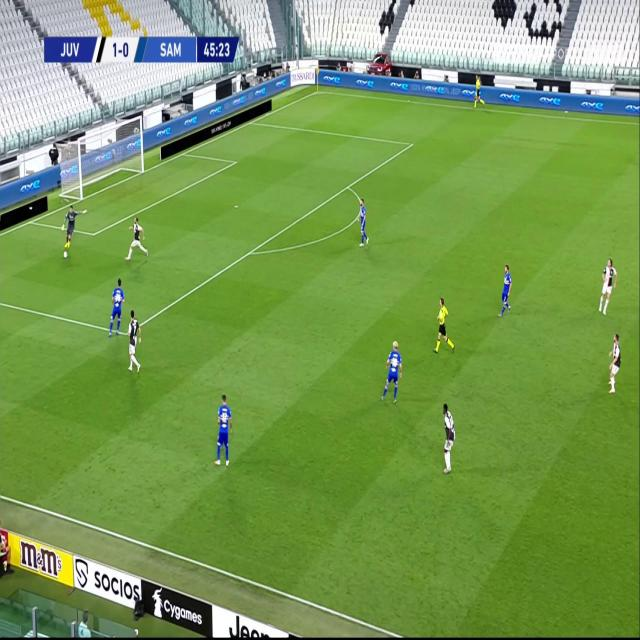ball: (63, 248, 69, 258)
player: (213, 391, 234, 468), (380, 338, 403, 404), (440, 400, 457, 474), (598, 254, 618, 316), (434, 295, 454, 356), (125, 308, 142, 374), (108, 277, 126, 338), (606, 330, 623, 394), (125, 215, 148, 262), (62, 202, 80, 257), (498, 261, 512, 318), (356, 194, 369, 247), (472, 74, 484, 109)
